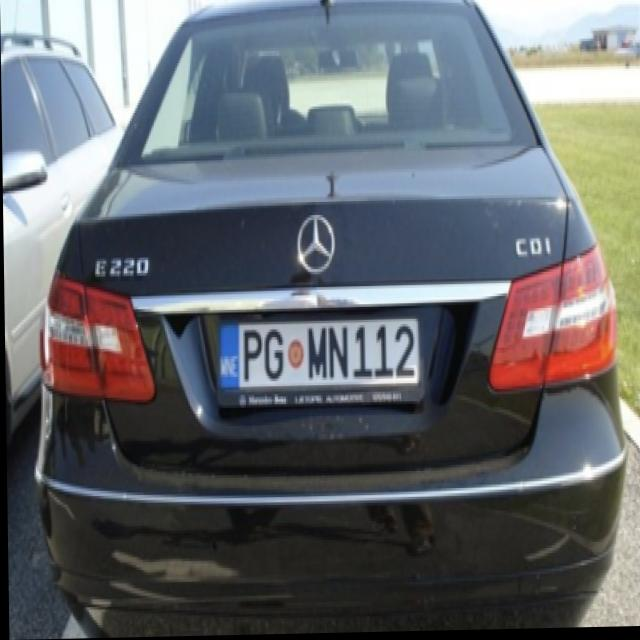licence: (216, 320, 422, 407)
